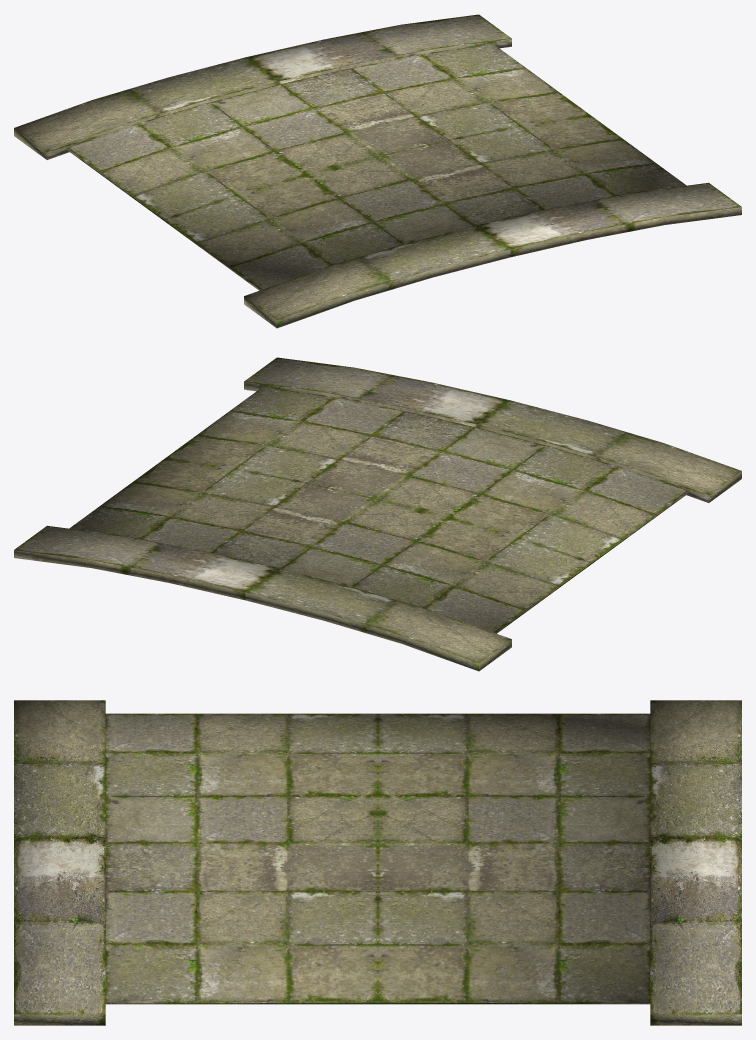
File: Ponte.fbx
3 renders of one model, top to bottom at view 1: azimuth 30°, elevation 25°; view 2: azimuth 150°, elevation 25°; view 3: azimuth 270°, elevation 25°, orthographic. The views are drawn at different scales.
Visible parts, largest first — view 1: Ponte; view 2: Ponte; view 3: Ponte.
Part boxes in pixels (x1,y1,x2,y2): Ponte: (14, 14, 741, 328); Ponte: (14, 357, 741, 671); Ponte: (14, 700, 741, 1025).
Bounding box in the file's own units: 8.93 × 0.4069 × 8.75.
Materials: 1 (1 with a texture image).
